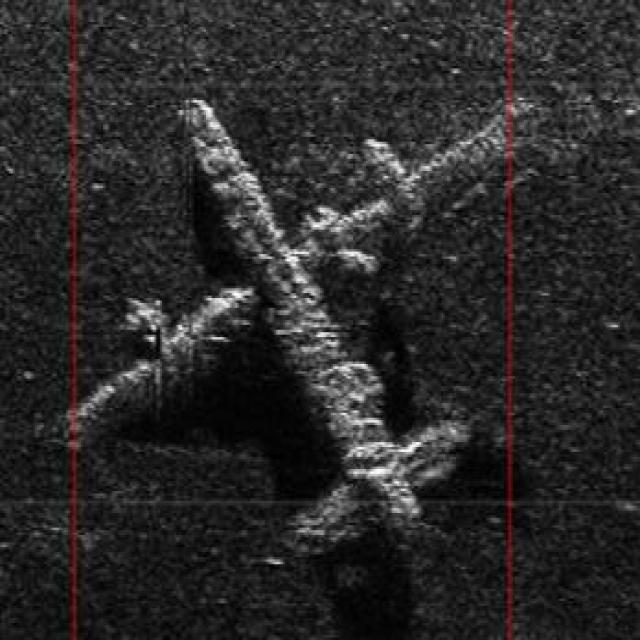plane: (55, 78, 541, 562)
